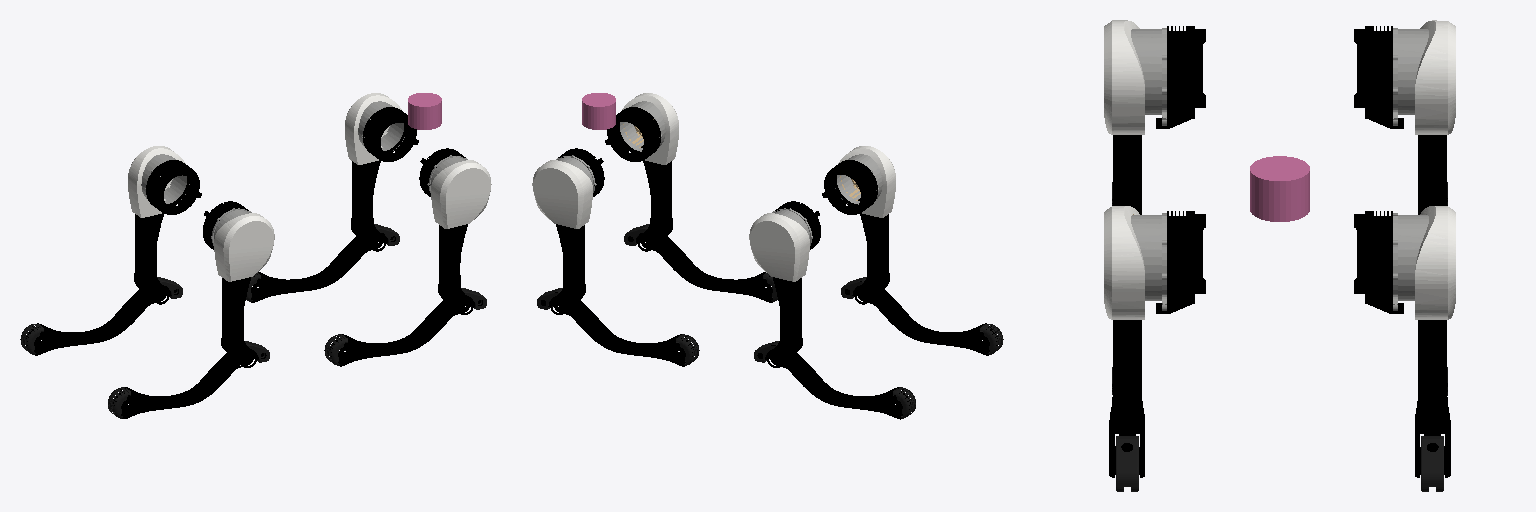
The robot description file, URDF, robot "JueyingL3":
<robot name="JueyingL3">
  <link name="dummy"></link>
  <joint name="dummy_joint" type="fixed">
    <parent link="dummy"/>
    <child link="urdf_link"/>
  </joint>
  <link name="urdf_link">
    <inertial>
      <origin xyz="0.005 0.000413 0.004" />
      <mass value="26.398" />
      <inertia ixx="0.1632" ixy="-5.2136E-05" ixz="-0.00019406" iyy="0.40648" iyz="8.2679E-05" izz="0.52596" />
    </inertial>
    <visual>
      <geometry>
        <mesh filename="package://lite3/Lite3/meshes/Torso.dae" />
      </geometry>
    </visual>
    <collision>
      <geometry>
        <box size="0.46 0.26 0.15"/>
      </geometry>
    </collision>
  </link>
  <link name="FL_HIP">
    <inertial>
      <origin xyz="-0.00075689 -0.0089129 -5.0528E-05" />
      <mass value="1.5767" />
      <inertia ixx="0.0012141" ixy="6.1989E-06" ixz="2.8652E-06" iyy="0.0016912" iyz="3.7E-06" izz="0.0013431" />
    </inertial>
    <visual>
      <geometry>
        <mesh filename="package://lite3/Lite3/meshes/FL_Hip.dae" />
      </geometry>
    </visual>
  </link>
  <joint name="LF_Joint" type="revolute">
    <origin xyz="0.292 0.08 0" />
    <parent link="urdf_link" />
    <child link="FL_HIP" />
    <axis xyz="1 0 0" />
    <limit lower="-0.523" upper="0.261" effort="30" velocity="20" />
  </joint>
  <link name="FL_THIGH">
    <inertial>
      <origin xyz="-0.0025264 -0.022118 -0.0292" />
      <mass value="3.0063" />
      <inertia ixx="0.0058102" ixy="4.2848E-05" ixz="-3.0437E-06" iyy="0.0080686" iyz="-6.889E-05" izz="0.003874" />
    </inertial>
    <visual>
      <geometry>
        <mesh filename="package://lite3/Lite3/meshes/L_Thigh.dae" />
      </geometry>
    </visual>
    <collision>
      <origin xyz="0 0 -0.13" />
      <geometry>
        <cylinder length="0.25" radius="0.04"/>
      </geometry>
    </collision>
  </link>
  <joint name="LF_Joint_1" type="revolute">
    <origin xyz="0 0.12325 0" />
    <parent link="FL_HIP" />
    <child link="FL_THIGH" />
    <axis xyz="0 1 0" />
    <limit lower="-2.53" upper="0.35" effort="40" velocity="20" />
  </joint>
  <link name="FL_SHANK">
    <inertial>
      <origin xyz="0.0075224 2.5888E-05 -0.17586" />
      <mass value="0.54849" />
      <inertia ixx="0.0057" ixy="1.16E-07" ixz="0.000153" iyy="0.006" iyz="-1.12E-06" izz="0.00029" />
    </inertial>
    <visual>
      <geometry>
        <mesh filename="package://lite3/Lite3/meshes/Shank.dae" />
      </geometry>
    </visual>
    <collision>
      <origin xyz="0.00 0 -0.33" />
      <geometry>
        <sphere radius="0.036"/>
      </geometry>
    </collision>
  </link>
  <joint name="LF_Joint_2" type="revolute">
    <origin xyz="0 0 -0.3" />
    <parent link="FL_THIGH" />
    <child link="FL_SHANK" />
    <axis xyz="0 1 0" />
    <limit lower="0.35" upper="2.53" effort="60" velocity="20" />
  </joint>
  <link name="FR_HIP">
    <inertial>
      <origin xyz="-0.000757 0.009 5.0528E-05" />
      <mass value="1.5767" />
      <inertia ixx="0.0012141" ixy="-6.1989E-06" ixz="-2.8652E-06" iyy="0.0016912" iyz="3.7E-06" izz="0.0013431" />
    </inertial>
    <visual>
      <geometry>
        <mesh filename="package://lite3/Lite3/meshes/FR_Hip.dae" />
      </geometry>
    </visual>
  </link>
  <joint name="RF_Joint" type="revolute">
    <origin xyz="0.292 -0.08 0" />
    <parent link="urdf_link" />
    <child link="FR_HIP" />
    <axis xyz="-1 0 0" />
    <limit lower="-0.523" upper="0.261" effort="30" velocity="20" />
  </joint>
  <link name="FR_THIGH">
    <inertial>
      <origin xyz="-0.0025266 0.022119 -0.029194" />
      <mass value="3.0062" />
      <inertia ixx="0.00581" ixy="-4.2781E-05" ixz="-3.0682E-06" iyy="0.0080684" iyz="6.8812E-05" izz="0.0038739" />
    </inertial>
    <visual>
      <geometry>
        <mesh filename="package://lite3/Lite3/meshes/R_Thigh.dae" />
      </geometry>
    </visual>
    <collision>
      <origin xyz="0 0 -0.13" />
      <geometry>
        <cylinder length="0.25" radius="0.04"/>
      </geometry>
    </collision>
  </link>
  <joint name="RF_Joint_1" type="revolute">
    <origin xyz="0 -0.12325 0" />
    <parent link="FR_HIP" />
    <child link="FR_THIGH" />
    <axis xyz="0 1 0" />
    <limit lower="-2.53" upper="0.35" effort="40" velocity="20" />
  </joint>
  <link name="FR_SHANK">
    <inertial>
      <origin xyz="0.0075224 2.5888E-05 -0.17586" />
      <mass value="0.54849" />
      <inertia ixx="0.0057" ixy="1.16E-07" ixz="0.000153" iyy="0.006" iyz="-1.12E-06" izz="0.00029" />
    </inertial>
    <visual>
      <geometry>
        <mesh filename="package://lite3/Lite3/meshes/Shank.dae" />
      </geometry>
    </visual>
    <collision>
      <origin xyz="0.00 0 -0.33" />
      <geometry>
        <sphere radius="0.036"/>
      </geometry>
    </collision>
  </link>
  <joint name="RF_Joint_2" type="revolute">
    <origin xyz="0 0 -0.3" />
    <parent link="FR_THIGH" />
    <child link="FR_SHANK" />
    <axis xyz="0 1 0" />
    <limit lower="0.35" upper="2.53" effort="60" velocity="20" />
  </joint>
  <link name="HL_HIP">
    <inertial>
      <origin xyz="0.000757 -0.009 5.053E-05" />
      <mass value="1.5767" />
      <inertia ixx="0.00121" ixy="-6.2E-06" ixz="2.9E-06" iyy="0.0017" iyz="-3.7E-06" izz="0.00134" />
    </inertial>
    <visual>
      <geometry>
        <mesh filename="package://lite3/Lite3/meshes/HL_Hip.dae" />
      </geometry>
    </visual>
  </link>
  <joint name="LB_Joint" type="revolute">
    <origin xyz="-0.292 0.08 0" />
    <parent link="urdf_link" />
    <child link="HL_HIP" />
    <axis xyz="1 0 0" />
    <limit lower="-0.523" upper="0.261" effort="30" velocity="20" />
  </joint>
  <link name="HL_THIGH">
    <inertial>
      <origin xyz="-0.0025264 -0.022118 -0.0292" />
      <mass value="3.0063" />
      <inertia ixx="0.0058102" ixy="4.2848E-05" ixz="-3.0433E-06" iyy="0.008" iyz="-6.8889E-05" izz="0.003874" />
    </inertial>
    <visual>
      <geometry>
        <mesh filename="package://lite3/Lite3/meshes/L_Thigh.dae" />
      </geometry>
    </visual>
    <collision>
      <origin xyz="0 0 -0.13" />
      <geometry>
        <cylinder length="0.25" radius="0.04"/>
      </geometry>
    </collision>
  </link>
  <joint name="LB_Joint_1" type="revolute">
    <origin xyz="0 0.12325 0" />
    <parent link="HL_HIP" />
    <child link="HL_THIGH" />
    <axis xyz="0 1 0" />
    <limit lower="-2.53" upper="0.35" effort="40" velocity="20" />
  </joint>
  <link name="HL_SHANK">
    <inertial>
      <origin xyz="0.0075224 2.5888E-05 -0.17586" />
      <mass value="0.54849" />
      <inertia ixx="0.0057" ixy="1.16E-07" ixz="0.000153" iyy="0.006" iyz="-1.12E-06" izz="0.00029" />
    </inertial>
    <visual>
      <geometry>
        <mesh filename="package://lite3/Lite3/meshes/Shank.dae" />
      </geometry>
    </visual>
    <collision>
      <origin xyz="0.00 0 -0.33" />
      <geometry>
        <sphere radius="0.036"/>
      </geometry>
    </collision>
  </link>
  <joint name="LB_Joint_2" type="revolute">
    <origin xyz="0 0 -0.3" />
    <parent link="HL_THIGH" />
    <child link="HL_SHANK" />
    <axis xyz="0 1 0" />
    <limit lower="0.35" upper="2.53" effort="60" velocity="20" />
  </joint>
  <link name="HR_HIP">
    <inertial>
      <origin xyz="0.00075689 0.0089129 -5.0528E-05" />
      <mass value="1.5767" />
      <inertia ixx="0.0012141" ixy="6.1989E-06" ixz="-2.8652E-06" iyy="0.0016912" iyz="-3.7E-06" izz="0.0013431" />
    </inertial>
    <visual>
      <geometry>
        <mesh filename="package://lite3/Lite3/meshes/HR_Hip.dae" />
      </geometry>
    </visual>
  </link>
  <joint name="RB_Joint" type="revolute">
    <origin xyz="-0.292 -0.08 0" />
    <parent link="urdf_link" />
    <child link="HR_HIP" />
    <axis xyz="-1 0 0" />
    <limit lower="-0.523" upper="0.261" effort="30" velocity="20" />
  </joint>
  <link name="HR_THIGH">
    <inertial>
      <origin xyz="-0.0025266 0.022119 -0.029194" />
      <mass value="3.0062" />
      <inertia ixx="0.00581" ixy="-4.2781E-05" ixz="-3.0681E-06" iyy="0.0080684" iyz="6.8812E-05" izz="0.0038739" />
    </inertial>
    <visual>
      <geometry>
        <mesh filename="package://lite3/Lite3/meshes/R_Thigh.dae" />
      </geometry>
    </visual>
    <collision>
      <origin xyz="0 0 -0.13" />
      <geometry>
        <cylinder length="0.25" radius="0.04"/>
      </geometry>
    </collision>
  </link>
  <joint name="RB_Joint_1" type="revolute">
    <origin xyz="0 -0.12325 0" />
    <parent link="HR_HIP" />
    <child link="HR_THIGH" />
    <axis xyz="0 1 0" />
    <limit lower="-2.53" upper="0.35" effort="40" velocity="20" />
  </joint>
  <link name="HR_SHANK">
    <inertial>
      <origin xyz="0.0075224 2.589E-05 -0.17586" />
      <mass value="0.54849" />
      <inertia ixx="0.0056981" ixy="1.1608E-07" ixz="0.00015292" iyy="0.0059026" iyz="-1.1243E-06" izz="0.00028822" />
    </inertial>
    <visual>
      <geometry>
        <mesh filename="package://lite3/Lite3/meshes/Shank.dae" />
      </geometry>
    </visual>
    <collision>
      <origin xyz="0.00 0 -0.33" />
      <geometry>
        <sphere radius="0.036"/>
      </geometry>
    </collision>
  </link>
  <joint name="RB_Joint_2" type="revolute">
    <origin xyz="0 0 -0.3" />
    <parent link="HR_THIGH" />
    <child link="HR_SHANK" />
    <axis xyz="0 1 0" />
    <limit lower="0.35" upper="2.53" effort="60" velocity="20" />
  </joint>
  <link name="Lidar">
    <inertial>
      <origin xyz="-0.30507 0.00041299 -0.074912" />
      <mass value="0.01" />
      <inertia ixx="0.1632" ixy="-5.2136E-05" ixz="-0.00019406" iyy="0.40648" iyz="8.2679E-05" izz="0.52596" />
    </inertial>
    <visual>
      <origin xyz="0 0 0.03" />
      <geometry>
        <cylinder length="0.06" radius="0.04"/>
      </geometry>
    </visual>
  </link>
  <joint name="Lidar_Joint" type="fixed">
    <origin xyz="0.31 0 0.079" />
    <parent link="urdf_link" />
    <child link="Lidar" />
  </joint>
</robot>

--- Render facts (derived) ---
The picture shows the robot from 3 angles, left to right: view 1: azimuth 30°, elevation 25°; view 2: azimuth 150°, elevation 25°; view 3: azimuth 270°, elevation 25°; orthographic projection.
Model JueyingL3 with 15 links and 14 joints (12 revolute, 2 fixed), rooted at dummy, posed all joints at 0 but 4 set to mid-range because 0 is outside their limits (LF_Joint_2 = 1.44, RF_Joint_2 = 1.44, LB_Joint_2 = 1.44, RB_Joint_2 = 1.44).
Links seen in each view (by area): view 1: HR_THIGH, FR_THIGH, HL_THIGH, FL_THIGH, FR_SHANK, HL_SHANK, HR_SHANK, FL_SHANK, Lidar; view 2: HL_THIGH, FL_THIGH, HR_THIGH, FR_THIGH, FL_SHANK, HL_SHANK, HR_SHANK, FR_SHANK, Lidar; view 3: FR_THIGH, FL_THIGH, HR_THIGH, HL_THIGH, Lidar, FL_SHANK, FR_SHANK.
Link boxes in pixels (bbox=[...]): HR_THIGH: bbox=[203, 201, 274, 367]; FR_THIGH: bbox=[419, 148, 491, 314]; HL_THIGH: bbox=[128, 146, 201, 304]; FL_THIGH: bbox=[345, 93, 418, 251]; FR_SHANK: bbox=[324, 288, 486, 366]; HL_SHANK: bbox=[20, 277, 182, 355]; HR_SHANK: bbox=[108, 341, 269, 418]; FL_SHANK: bbox=[246, 224, 399, 302]; Lidar: bbox=[408, 93, 441, 129]; HL_THIGH: bbox=[749, 201, 820, 367]; FL_THIGH: bbox=[532, 148, 604, 314]; HR_THIGH: bbox=[822, 146, 895, 304]; FR_THIGH: bbox=[605, 93, 678, 251]; FL_SHANK: bbox=[537, 288, 699, 366]; HL_SHANK: bbox=[754, 341, 915, 419]; HR_SHANK: bbox=[841, 277, 1003, 355]; FR_SHANK: bbox=[624, 224, 777, 302]; Lidar: bbox=[582, 93, 615, 129]; FR_THIGH: bbox=[1104, 206, 1205, 477]; FL_THIGH: bbox=[1354, 206, 1455, 477]; HR_THIGH: bbox=[1104, 20, 1205, 214]; HL_THIGH: bbox=[1354, 20, 1455, 214]; Lidar: bbox=[1250, 156, 1309, 221]; FL_SHANK: bbox=[1420, 367, 1447, 491]; FR_SHANK: bbox=[1112, 367, 1139, 491].
Bounding box of the posed robot: 1.02 × 0.47 × 0.5222 m (x, y, z).
8 mesh visuals loaded from 8 distinct referenced files (3 Collada DAE); not drawn: 5 (reference not matched to a file when rendering).
